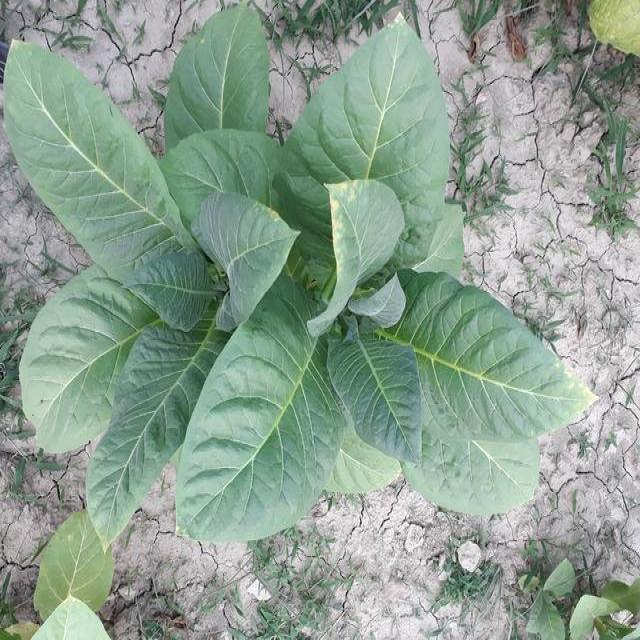crop: (6, 20, 582, 515), (40, 512, 126, 640), (527, 547, 640, 640), (586, 0, 640, 45)
